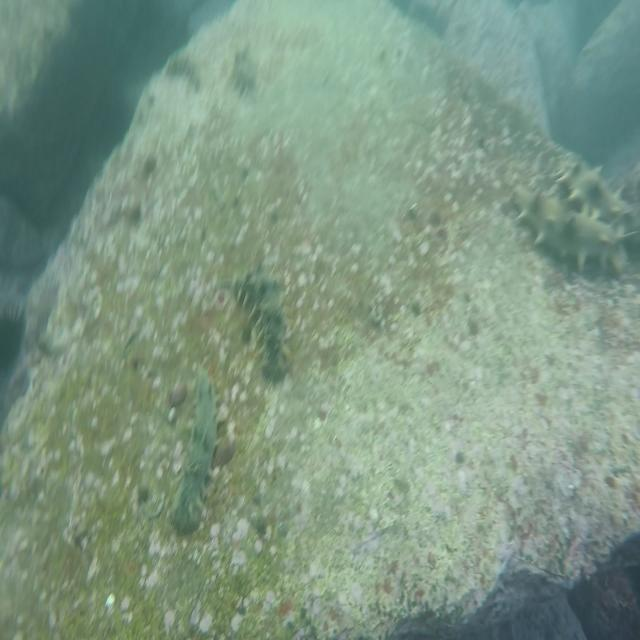echinus: (0, 313, 33, 380)
holothurian: (509, 180, 628, 268), (539, 150, 640, 236), (231, 274, 295, 378), (176, 366, 216, 529), (226, 44, 259, 90), (168, 56, 205, 93)
